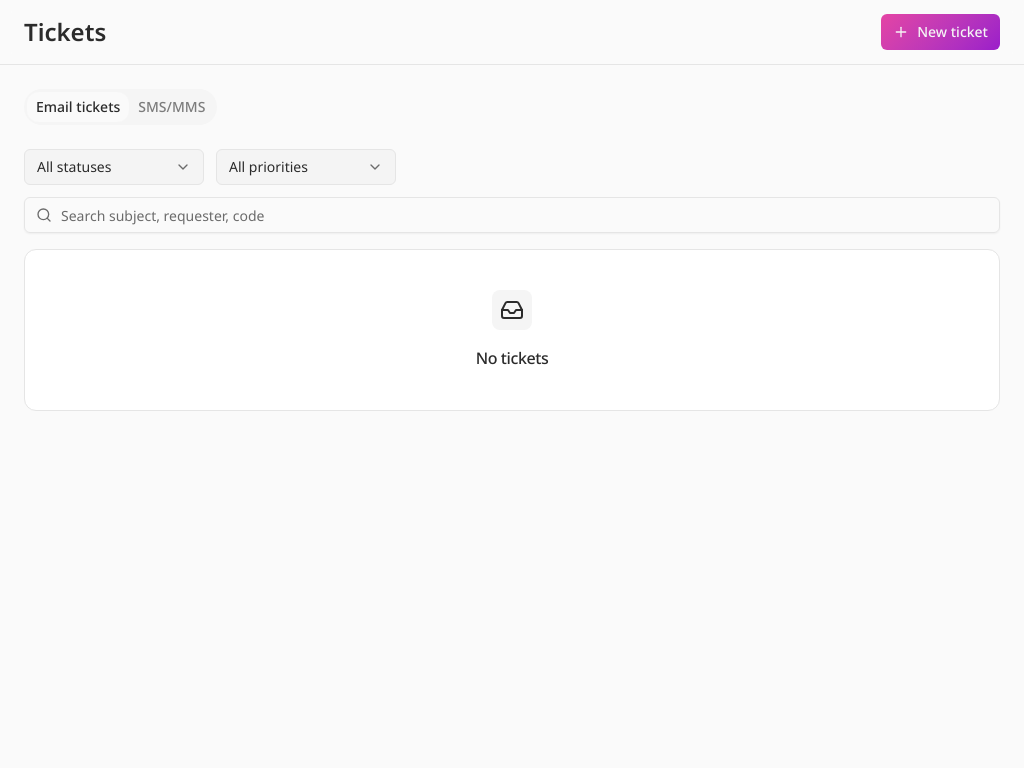
Test: TicketsPage › keeps compose closed until New ticket is pressed
The width and height of the screenshot is (1024, 768).
Expected: the dropdown named "Filter by status" shows "All statuses", [24, 149, 204, 185]
Expected: the dropdown named "Filter by priority" shows "All priorities", [216, 149, 396, 185]
Click the button "New ticket" at (941, 32), box [881, 14, 1000, 50]
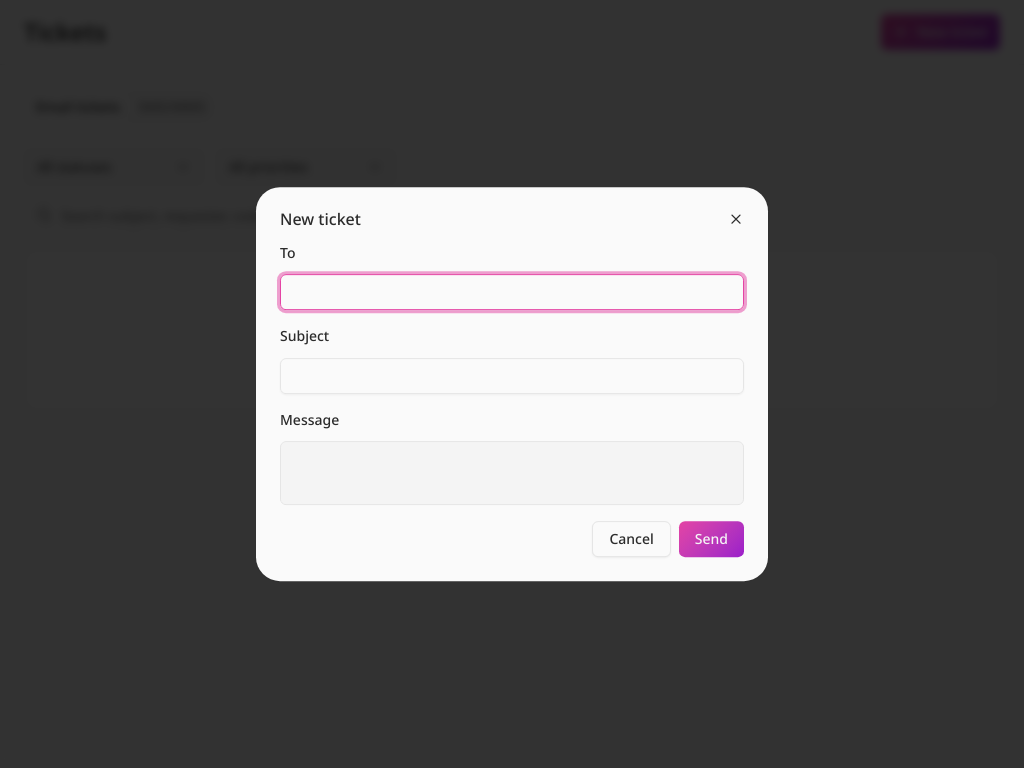
Expected: the field labelled "To" is shown, [280, 274, 744, 310]
